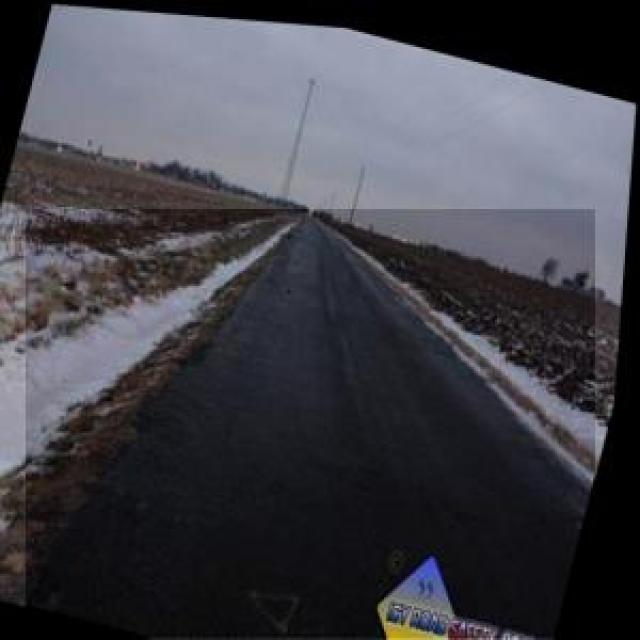ice-road: (27, 210, 595, 638)
